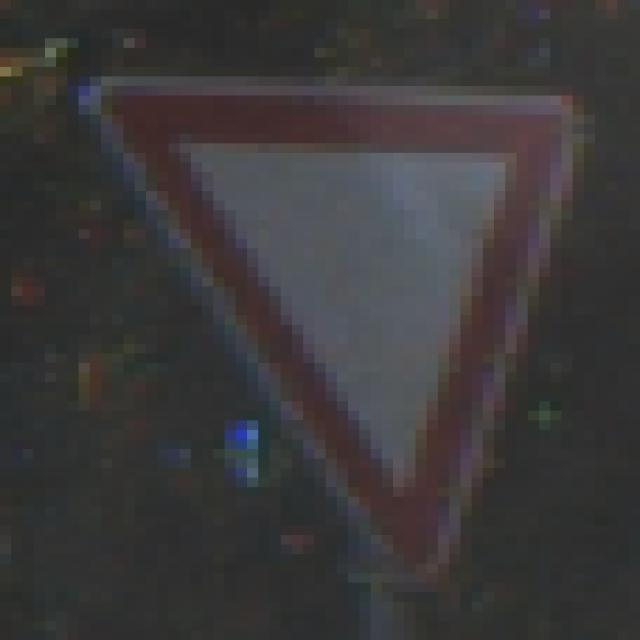Give Way: (68, 58, 585, 584)
